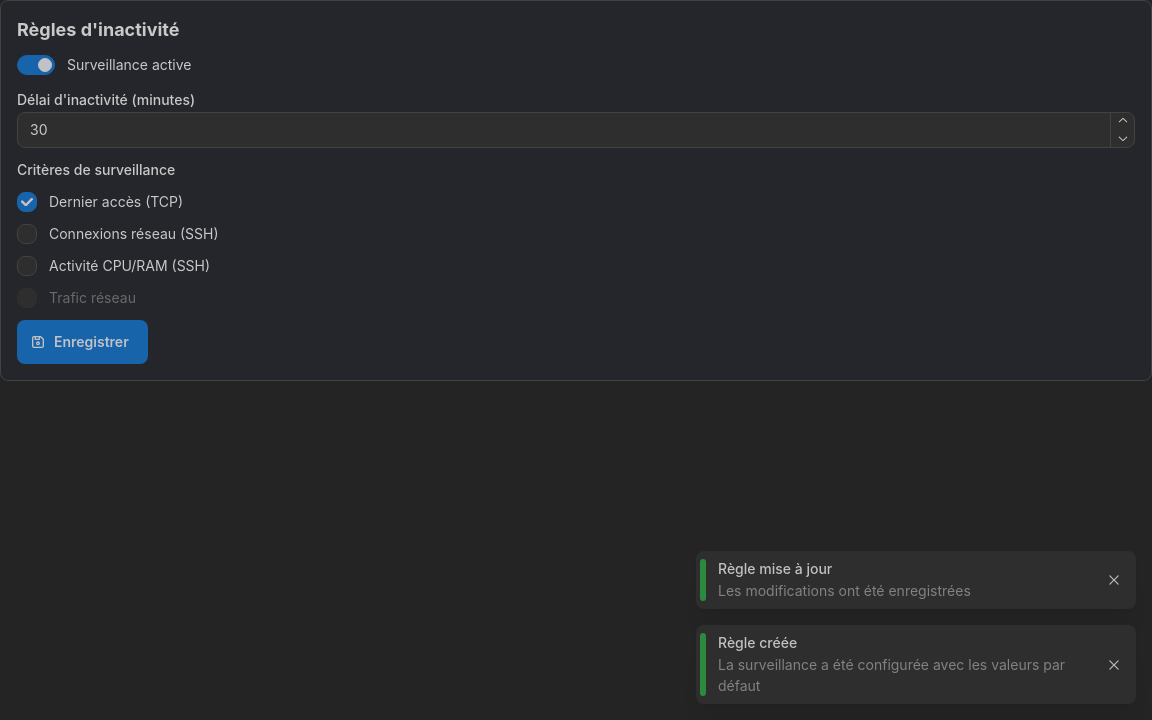
it: InactivityRulesSection › should show error notification on save failure
Click the button "Enregistrer". click: (82, 342)
box: [17, 320, 148, 364]
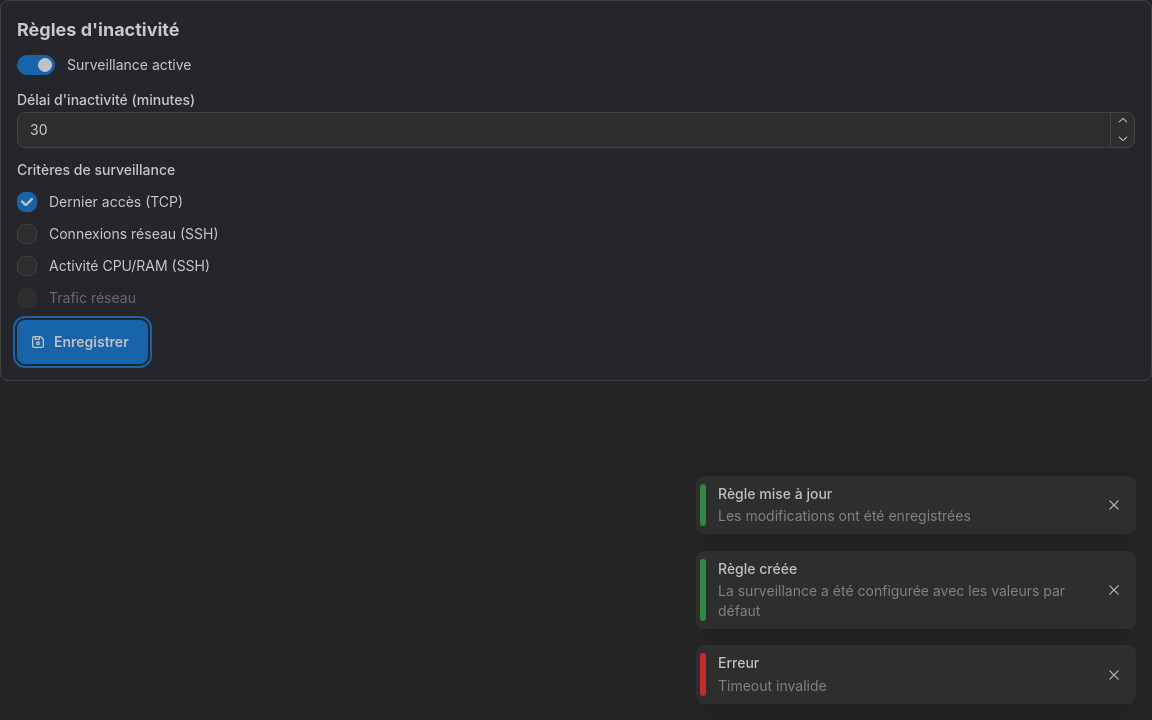
expect the text "Timeout invalide" is shown: met, box [718, 677, 827, 694]
